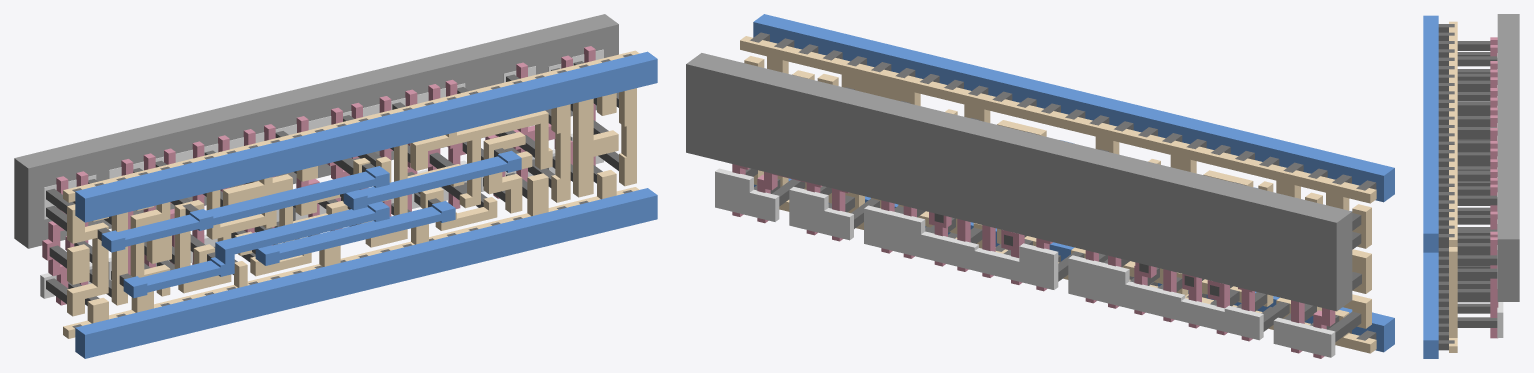
File: sky130_fd_sc_hd__dfbbp_1.gds.gltf
3 renders of one model, left to right at view 1: azimuth 30°, elevation 25°; view 2: azimuth 150°, elevation 25°; view 3: azimuth 270°, elevation 25°, orthographic. The views are drawn at different scales.
Visible parts, largest first — view 1: sky130_fd_sc_hd__dfbbp_1_met1, sky130_fd_sc_hd__dfbbp_1_li1, sky130_fd_sc_hd__dfbbp_1_nwell, sky130_fd_sc_hd__dfbbp_1_poly, sky130_fd_sc_hd__dfbbp_1_licon, sky130_fd_sc_hd__dfbbp_1_diff, sky130_fd_sc_hd__dfbbp_1_mcon; view 2: sky130_fd_sc_hd__dfbbp_1_nwell, sky130_fd_sc_hd__dfbbp_1_diff, sky130_fd_sc_hd__dfbbp_1_li1, sky130_fd_sc_hd__dfbbp_1_met1, sky130_fd_sc_hd__dfbbp_1_poly, sky130_fd_sc_hd__dfbbp_1_licon, sky130_fd_sc_hd__dfbbp_1_mcon; view 3: sky130_fd_sc_hd__dfbbp_1_licon, sky130_fd_sc_hd__dfbbp_1_nwell, sky130_fd_sc_hd__dfbbp_1_met1, sky130_fd_sc_hd__dfbbp_1_mcon, sky130_fd_sc_hd__dfbbp_1_li1, sky130_fd_sc_hd__dfbbp_1_poly, sky130_fd_sc_hd__dfbbp_1_diff.
Boxes of the visible parts, x1=… form: sky130_fd_sc_hd__dfbbp_1_met1: x1=75, y1=51, x2=657, y2=358; sky130_fd_sc_hd__dfbbp_1_li1: x1=63, y1=50, x2=639, y2=338; sky130_fd_sc_hd__dfbbp_1_nwell: x1=14, y1=14, x2=618, y2=248; sky130_fd_sc_hd__dfbbp_1_poly: x1=42, y1=46, x2=595, y2=305; sky130_fd_sc_hd__dfbbp_1_licon: x1=46, y1=61, x2=618, y2=305; sky130_fd_sc_hd__dfbbp_1_diff: x1=40, y1=49, x2=603, y2=298; sky130_fd_sc_hd__dfbbp_1_mcon: x1=72, y1=53, x2=632, y2=328; sky130_fd_sc_hd__dfbbp_1_nwell: x1=686, y1=53, x2=1352, y2=311; sky130_fd_sc_hd__dfbbp_1_diff: x1=715, y1=168, x2=1335, y2=357; sky130_fd_sc_hd__dfbbp_1_li1: x1=740, y1=36, x2=1376, y2=353; sky130_fd_sc_hd__dfbbp_1_met1: x1=753, y1=14, x2=1394, y2=352; sky130_fd_sc_hd__dfbbp_1_poly: x1=732, y1=164, x2=1335, y2=358; sky130_fd_sc_hd__dfbbp_1_licon: x1=745, y1=87, x2=1361, y2=341; sky130_fd_sc_hd__dfbbp_1_mcon: x1=750, y1=32, x2=1376, y2=340; sky130_fd_sc_hd__dfbbp_1_licon: x1=1457, y1=41, x2=1497, y2=327; sky130_fd_sc_hd__dfbbp_1_nwell: x1=1497, y1=14, x2=1519, y2=301; sky130_fd_sc_hd__dfbbp_1_met1: x1=1423, y1=15, x2=1438, y2=358; sky130_fd_sc_hd__dfbbp_1_mcon: x1=1438, y1=24, x2=1454, y2=350; sky130_fd_sc_hd__dfbbp_1_li1: x1=1449, y1=21, x2=1457, y2=352; sky130_fd_sc_hd__dfbbp_1_poly: x1=1490, y1=37, x2=1498, y2=338; sky130_fd_sc_hd__dfbbp_1_diff: x1=1497, y1=53, x2=1503, y2=337.
Bounding box in the file's own units: 12.34 × 3.2 × 2.24.
